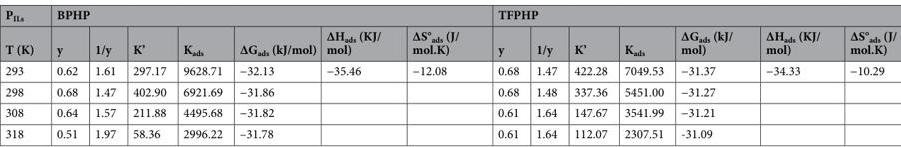table: (4, 5, 896, 142)
table column: (230, 5, 321, 142), (748, 5, 834, 142), (396, 5, 478, 142), (671, 5, 748, 142), (321, 5, 396, 142), (834, 5, 896, 142), (174, 5, 230, 142), (615, 5, 671, 142), (124, 5, 174, 142), (565, 5, 615, 142), (478, 5, 527, 142), (44, 5, 85, 142), (4, 5, 44, 142), (85, 5, 124, 142), (527, 5, 565, 142)
table column header: (4, 5, 896, 60)
table row: (4, 24, 896, 60), (4, 101, 896, 123), (4, 80, 896, 101), (4, 60, 896, 80), (4, 5, 896, 24), (4, 123, 896, 142)
table spanning cell: (44, 5, 478, 24), (478, 5, 896, 24), (4, 5, 44, 60)
